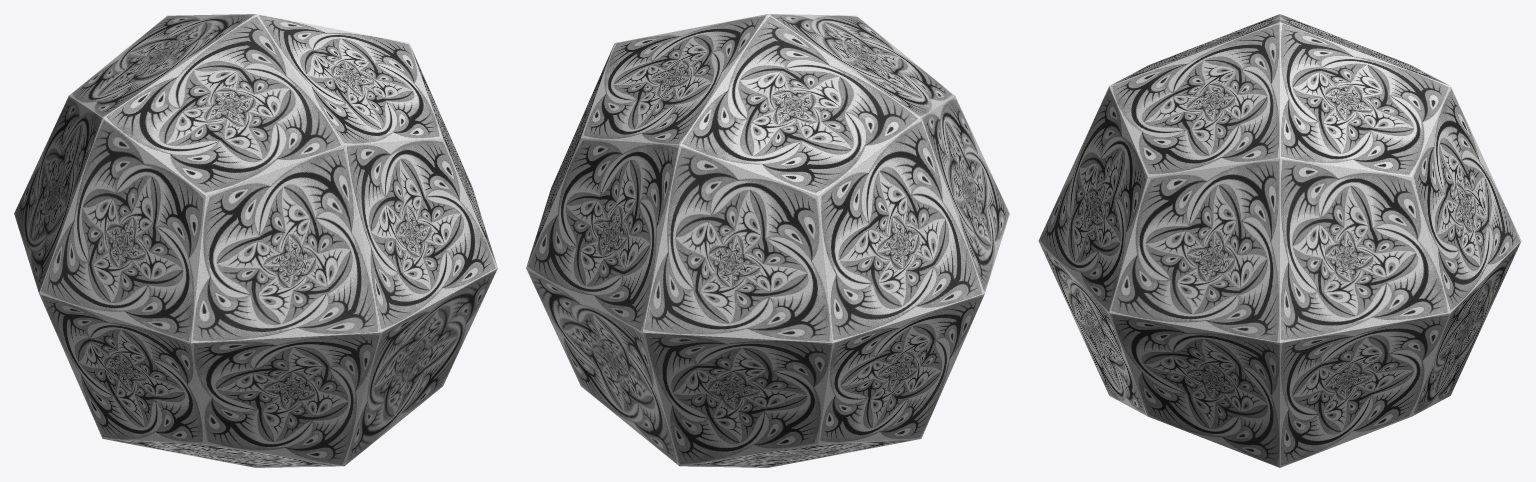
The model's file is DeltoidalIcositetrahedron8.obj.
3 renders of one model, left to right at view 1: azimuth 30°, elevation 25°; view 2: azimuth 150°, elevation 25°; view 3: azimuth 270°, elevation 25°, orthographic. The views are drawn at different scales.
Size of the model in its own units: 2.83 by 2.83 by 2.83.
1 material, 1 textured.
